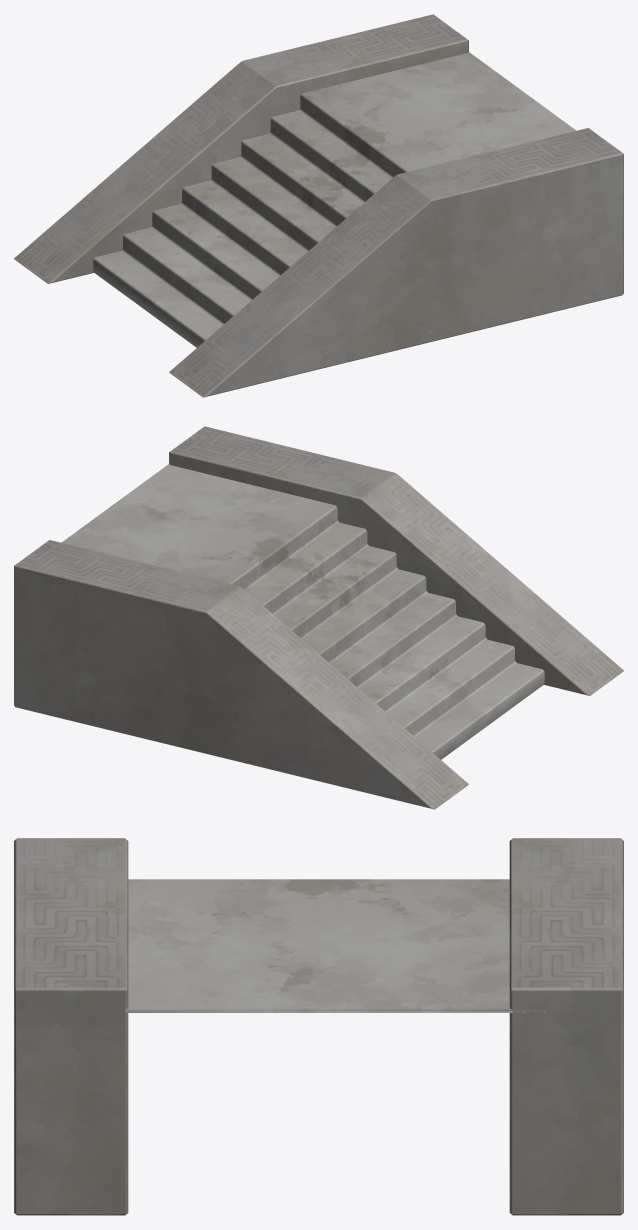
File: SM_Stairs_Medium.fbx
The picture shows the model from 3 angles, top to bottom: view 1: azimuth 30°, elevation 25°; view 2: azimuth 150°, elevation 25°; view 3: azimuth 270°, elevation 25°; orthographic projection. The views are drawn at different scales.
Visible parts, largest first — view 1: SM_Stairs_Medium_LOD0; view 2: SM_Stairs_Medium_LOD0; view 3: SM_Stairs_Medium_LOD0.
Part boxes in pixels (left/top/right/bottom): SM_Stairs_Medium_LOD0: left=14, top=14, right=623, bottom=397; SM_Stairs_Medium_LOD0: left=14, top=426, right=623, bottom=809; SM_Stairs_Medium_LOD0: left=14, top=838, right=623, bottom=1215.
Size of the model in its own units: 509 by 400 by 165.
2 materials, 2 textured.
